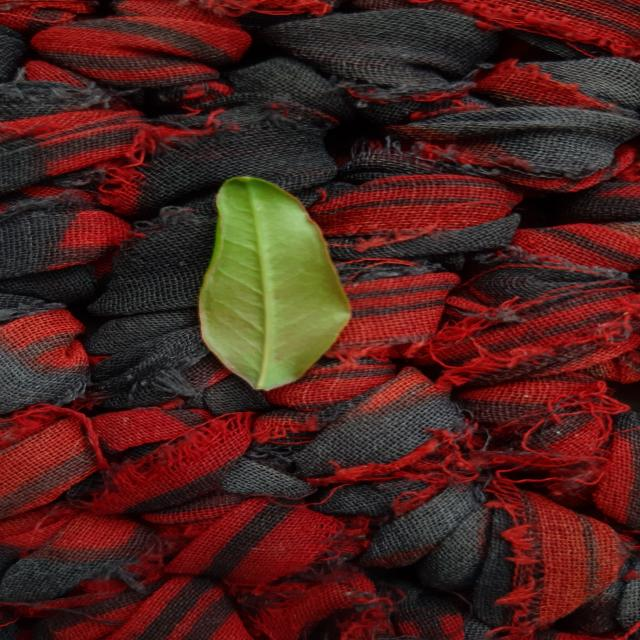pomgranate: (198, 178, 351, 390)
